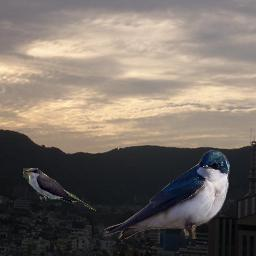Cuckoo: (23, 168, 96, 212)
Swallow: (103, 150, 230, 239)
